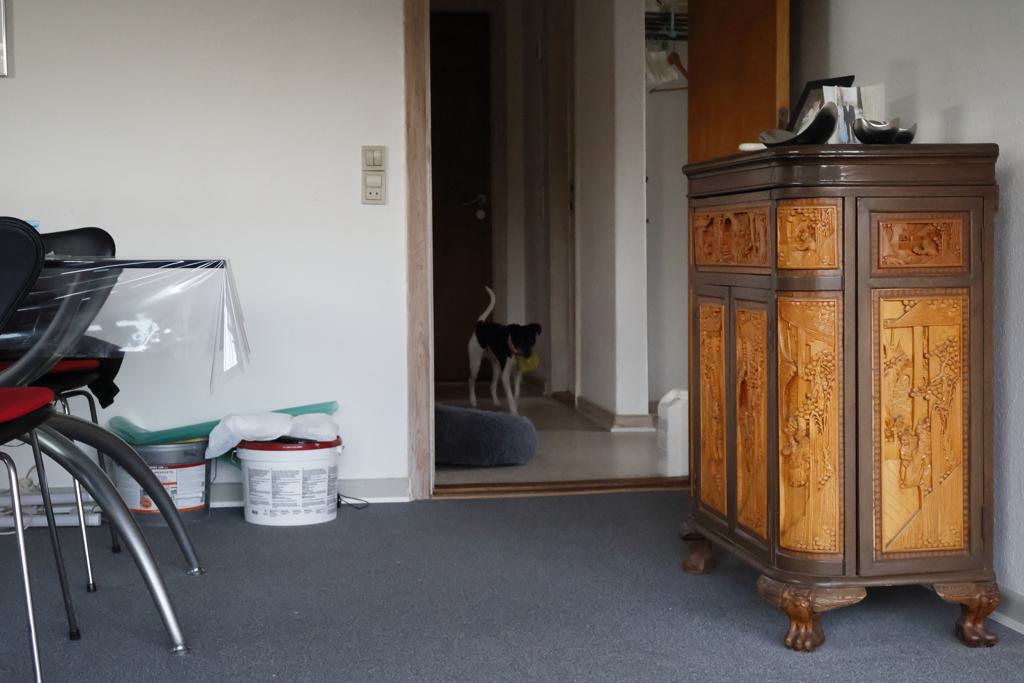Dog: (462, 282, 553, 422)
